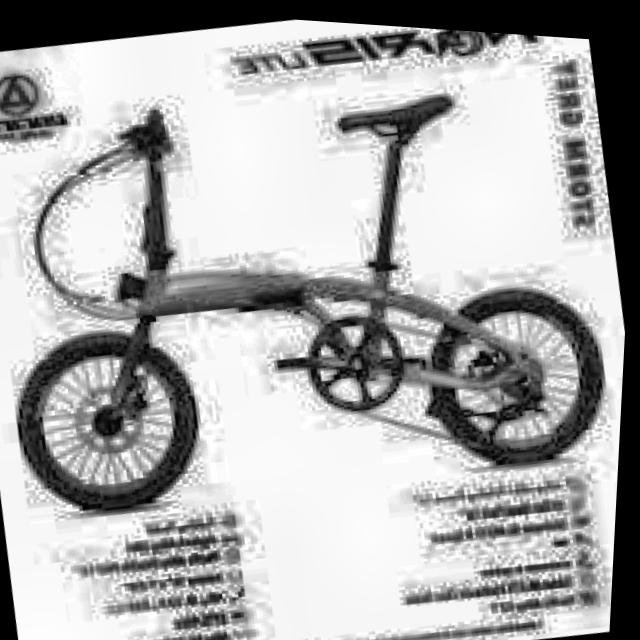motorcycle: (0, 17, 637, 559)
